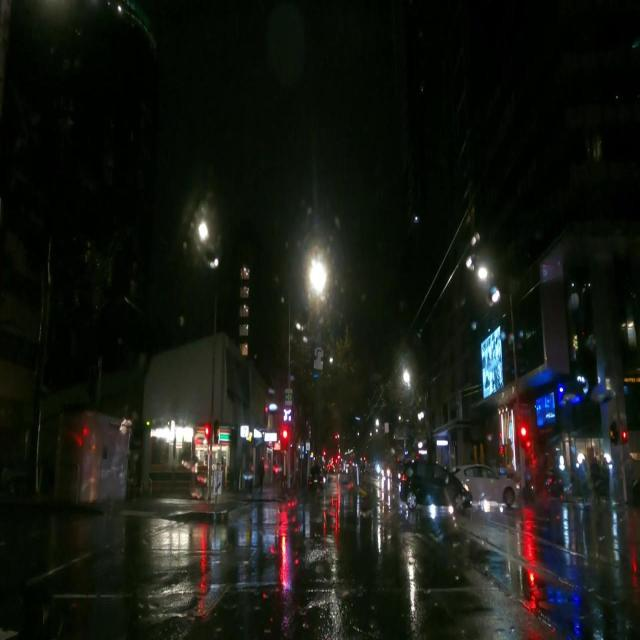Car: (398, 460, 469, 512)
